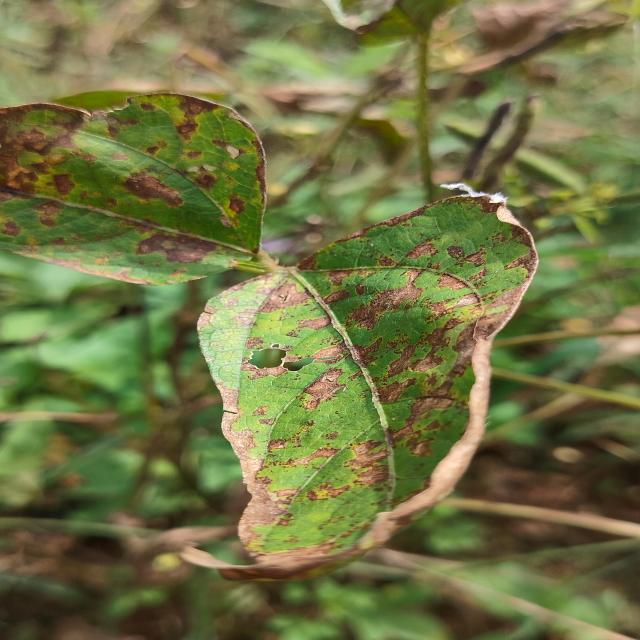Black gram_leaf spot: (191, 191, 554, 585), (0, 87, 270, 285)
